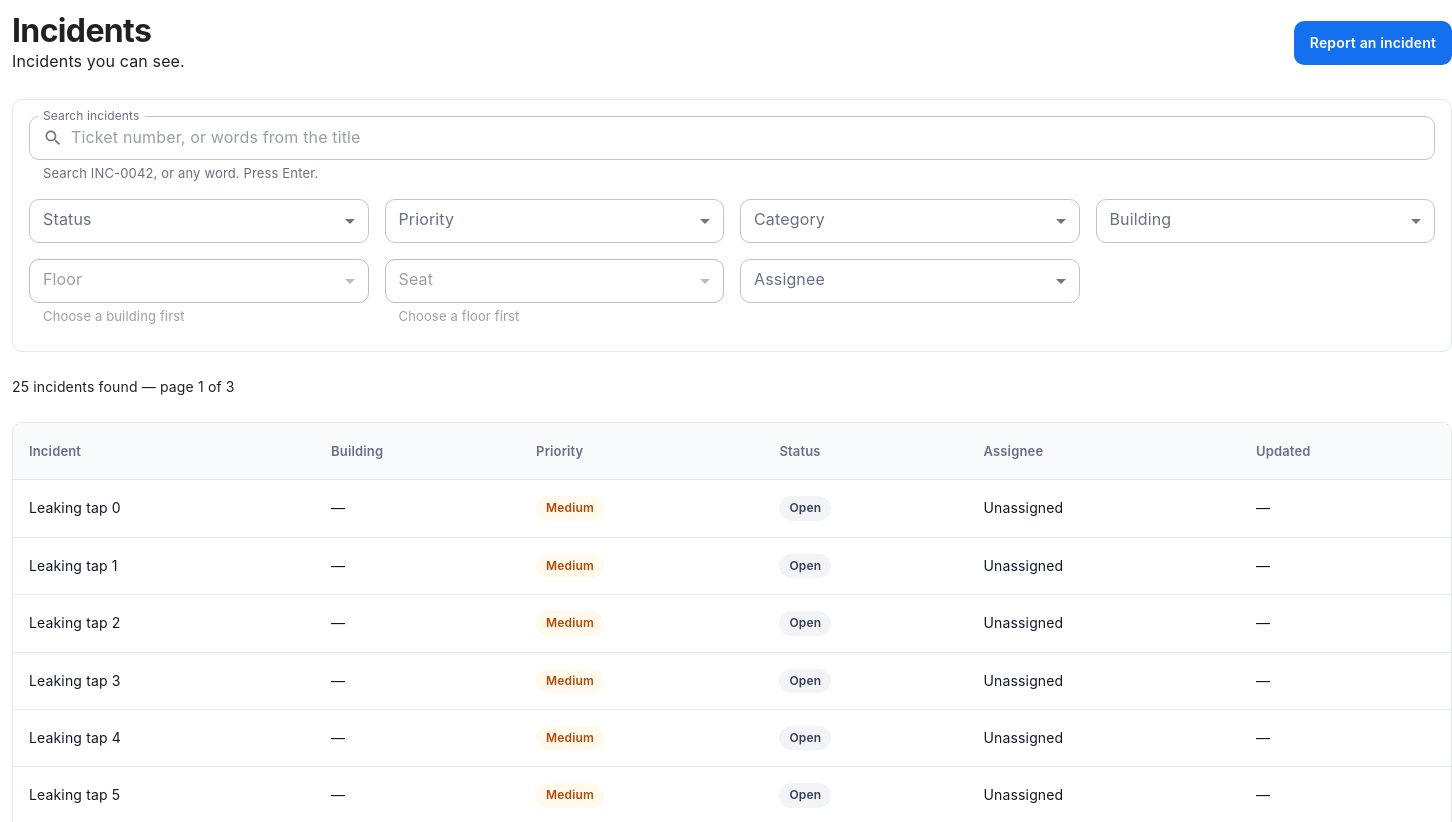
Test: IncidentsPage › offers a way out of a search that found nothing
Expected: the text "Leaking tap 0" is shown, [29, 499, 121, 516]
Type "nothing" into the field labelled "Search incidents" at (753, 138), box [71, 118, 1435, 158]
Then press Enter
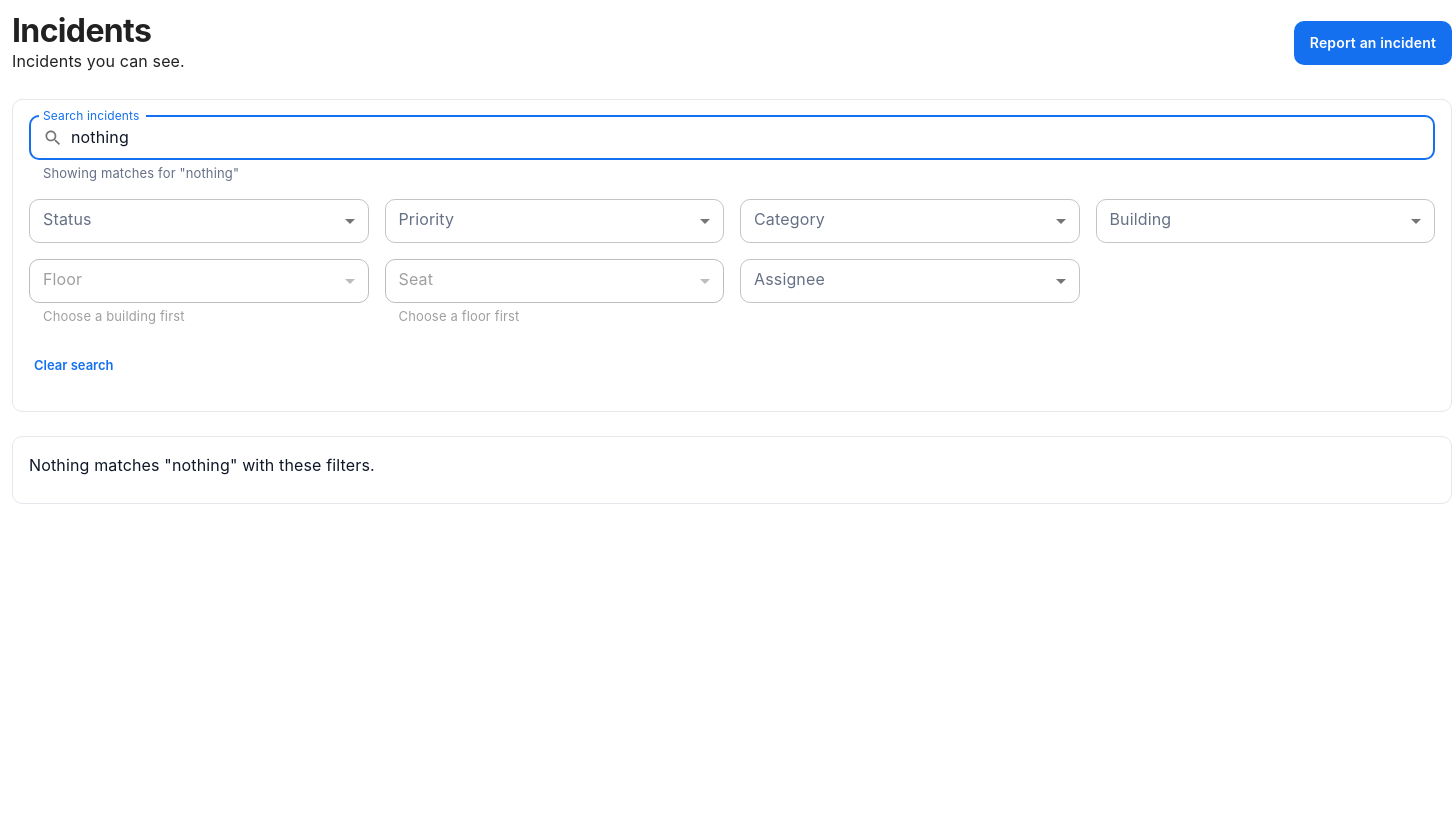
Now the text "Nothing matches \"nothing\" with these filters." is shown, box [29, 455, 375, 475]
Now the button "Clear search" is shown, box [29, 343, 118, 387]
